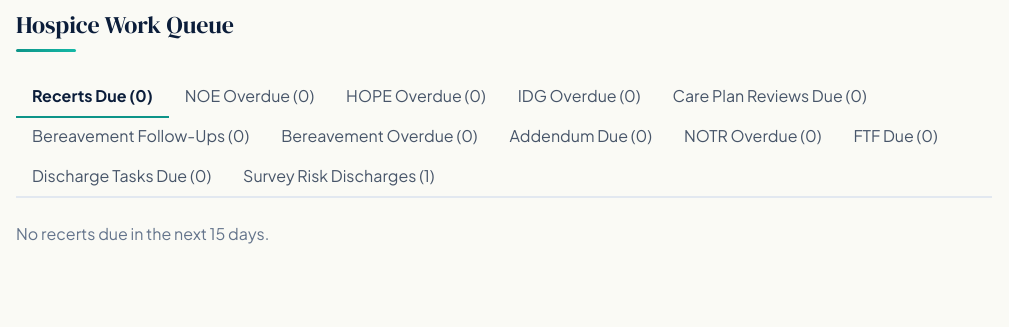
Test case: HospiceWorkQueue › surveyRiskDischarges items render in the new tab
Click the tab "Survey Risk Discharges (1)" at (339, 177), box [227,156,450,198]
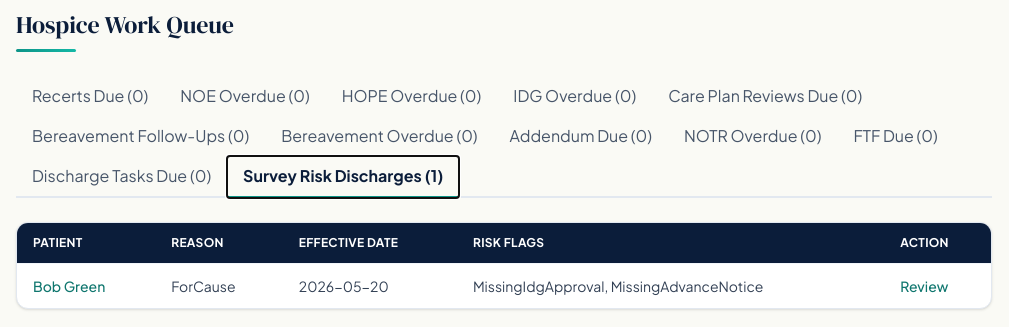
Expected: the link "Bob Green" is shown, [33,277,105,295]
Expected: the text "ForCause" is shown, [155,264,283,308]
Expected: the text "MissingIdgApproval, MissingAdvanceNotice" is shown, [457,264,884,308]
